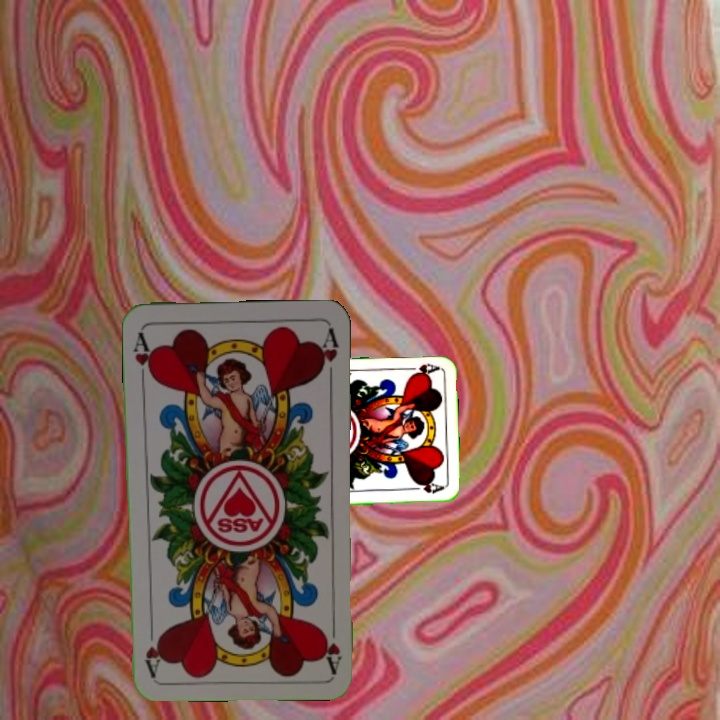HA: (129, 328, 156, 385), (318, 615, 344, 674), (400, 359, 441, 378)
